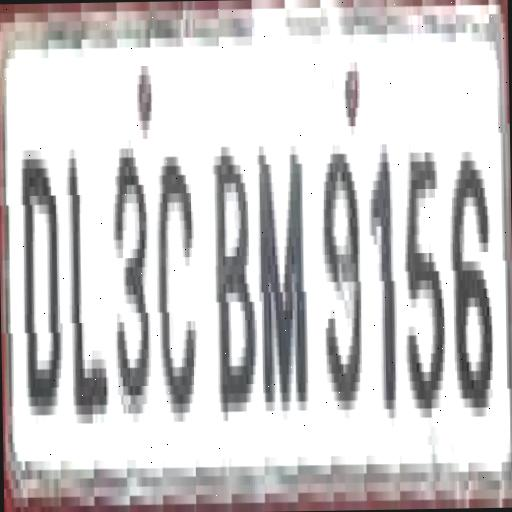number plate: (11, 0, 512, 512)
